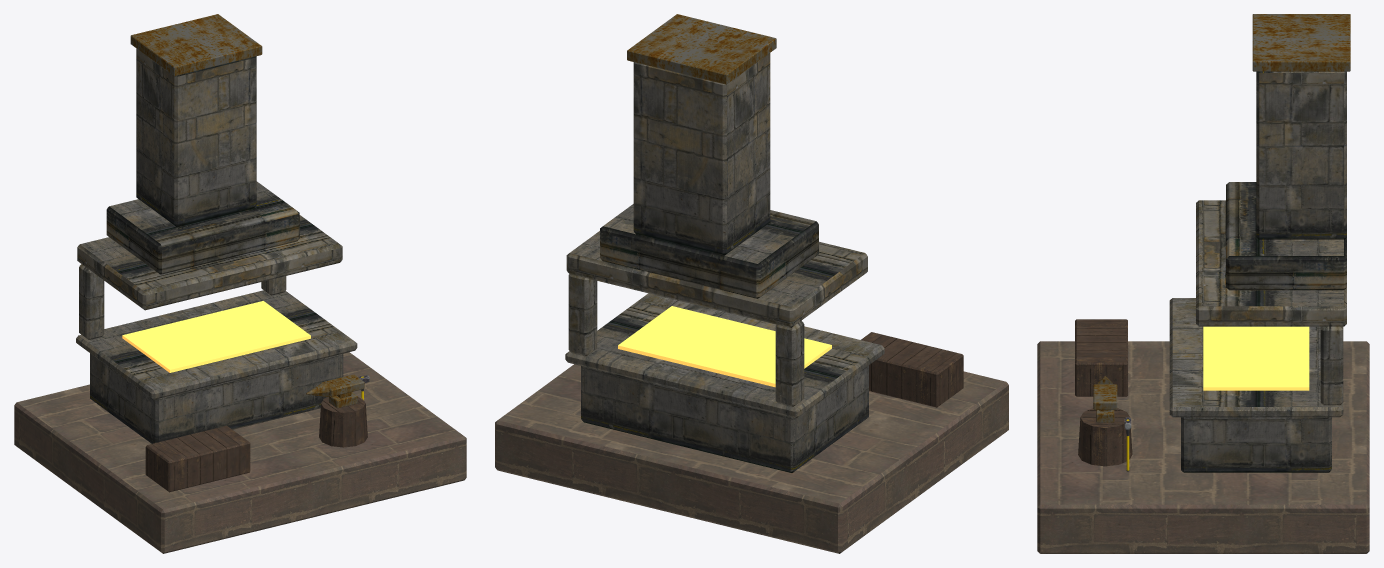
Rendered from hammerfall_forge.gltf.
3 views of the same model, side by side, from view 1: azimuth 30°, elevation 25°; view 2: azimuth 150°, elevation 25°; view 3: azimuth 270°, elevation 25° (orthographic). The views are drawn at different scales.
Parts seen in each view (by area): view 1: forge_stone-col, forge_paving-col, forge_forge_coals, forge_wood-col, forge_iron; view 2: forge_stone-col, forge_paving-col, forge_forge_coals, forge_iron, forge_wood-col; view 3: forge_stone-col, forge_paving-col, forge_forge_coals, forge_iron, forge_wood-col.
Part boxes in pixels (box(x1,y1,x2,y2)): forge_stone-col: box(76, 48, 357, 443); forge_paving-col: box(14, 352, 466, 553); forge_forge_coals: box(122, 301, 310, 372); forge_wood-col: box(145, 396, 367, 492); forge_iron: box(130, 14, 364, 408); forge_stone-col: box(565, 53, 884, 472); forge_paving-col: box(495, 364, 1008, 553); forge_forge_coals: box(618, 306, 831, 387); forge_iron: box(627, 14, 776, 84); forge_wood-col: box(861, 332, 963, 407); forge_stone-col: box(1169, 71, 1346, 472); forge_paving-col: box(1037, 341, 1369, 553); forge_forge_coals: box(1203, 326, 1309, 390); forge_iron: box(1093, 14, 1350, 422); forge_wood-col: box(1075, 319, 1132, 466).
Size of the model in its own units: 5.2 by 6.35 by 4.4.
Materials: 7 (5 with a texture image).
